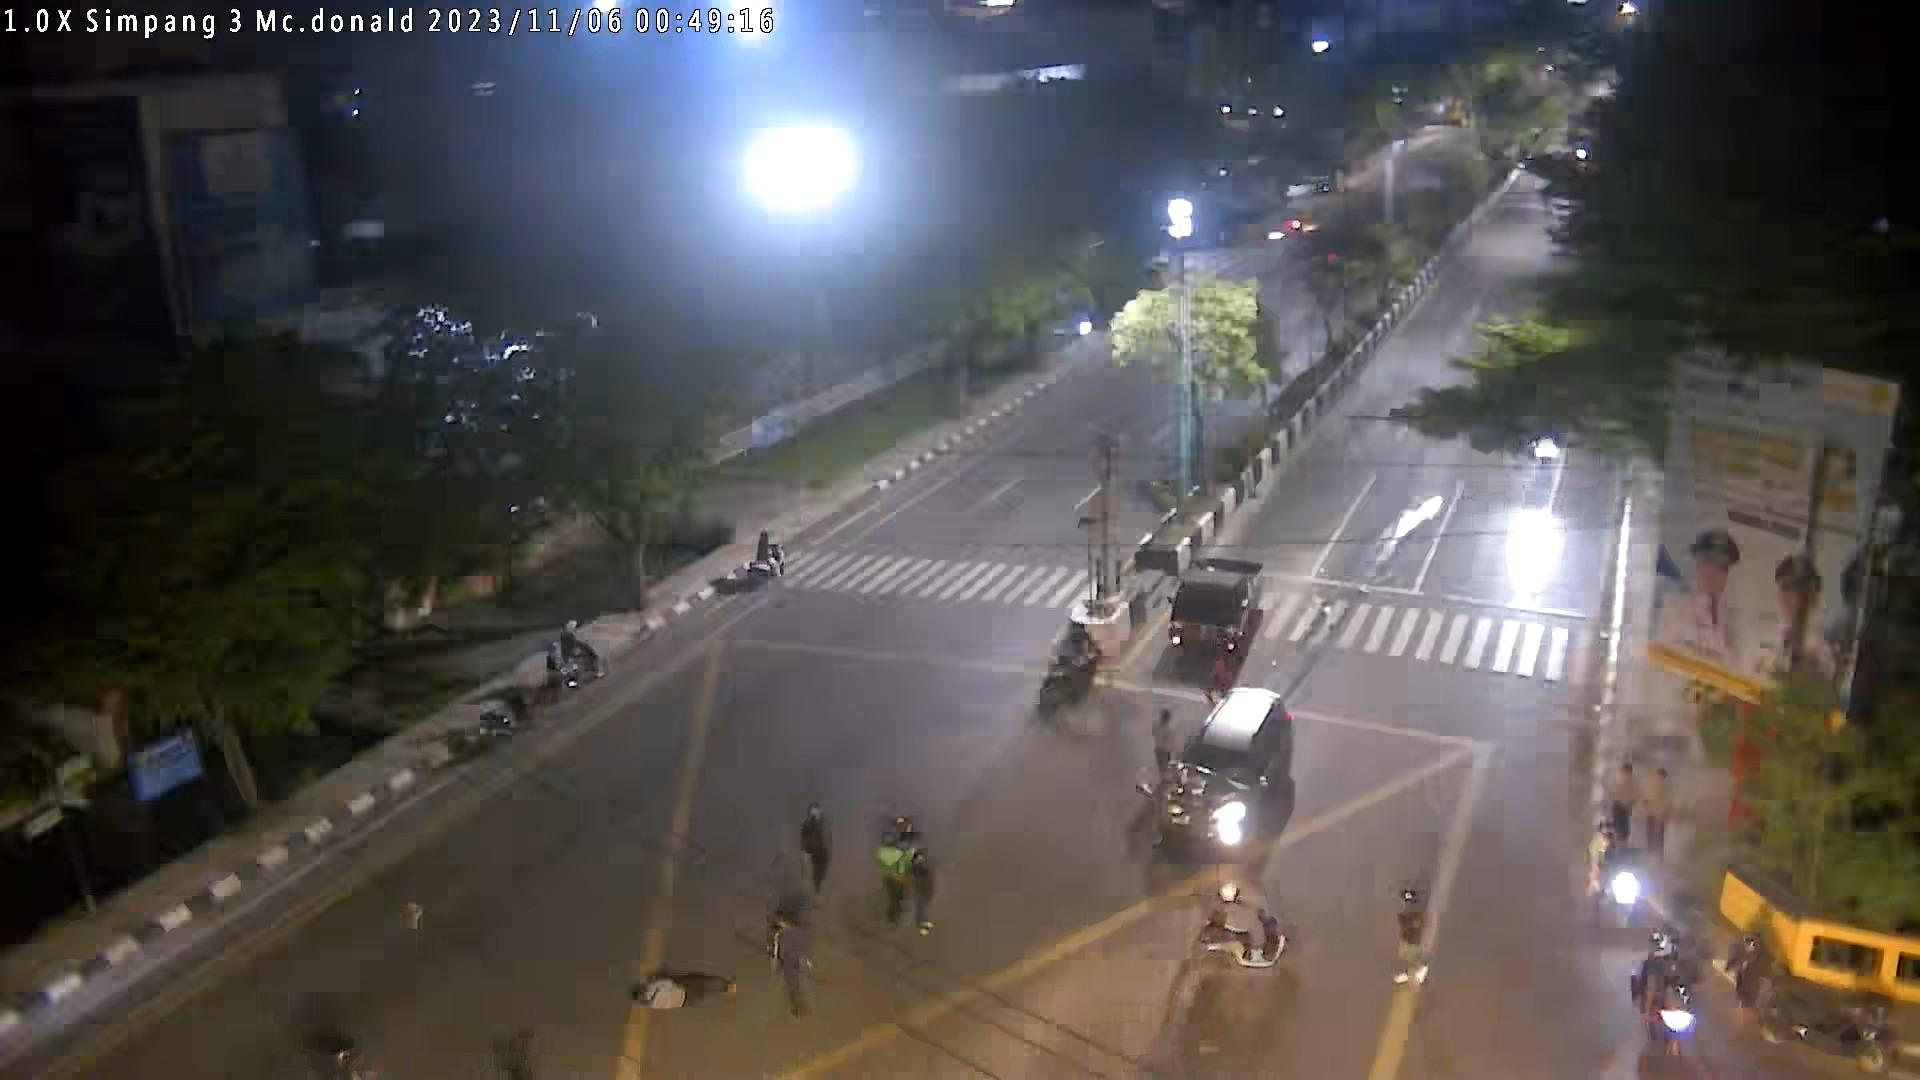accident: (629, 964, 736, 1011)
